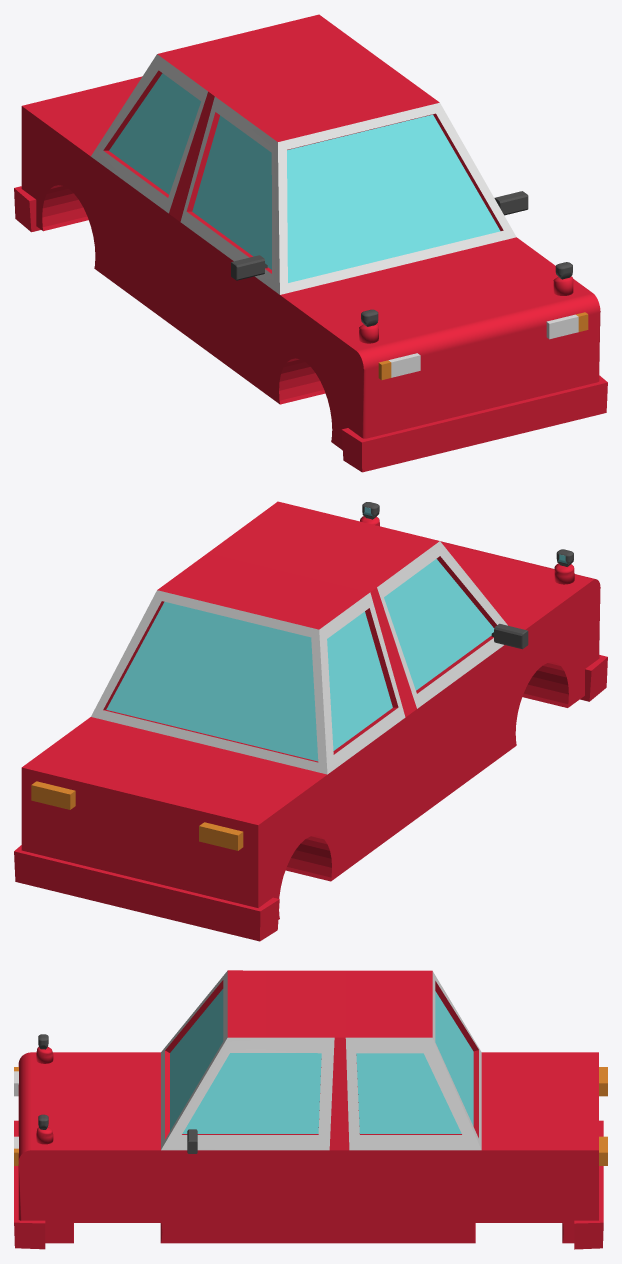
File: Car.fbx
The picture shows the model from 3 angles, top to bottom: view 1: azimuth 30°, elevation 25°; view 2: azimuth 150°, elevation 25°; view 3: azimuth 270°, elevation 25°; orthographic projection. The views are drawn at different scales.
Visible parts, largest first — view 1: Car; view 2: Car; view 3: Car.
Boxes of the visible parts, box(x1,y1,x2,y2) form: Car: box(14, 14, 607, 472); Car: box(14, 501, 607, 941); Car: box(14, 970, 607, 1249).
Size of the model in its own units: 2.89 by 2.17 by 6.01.
